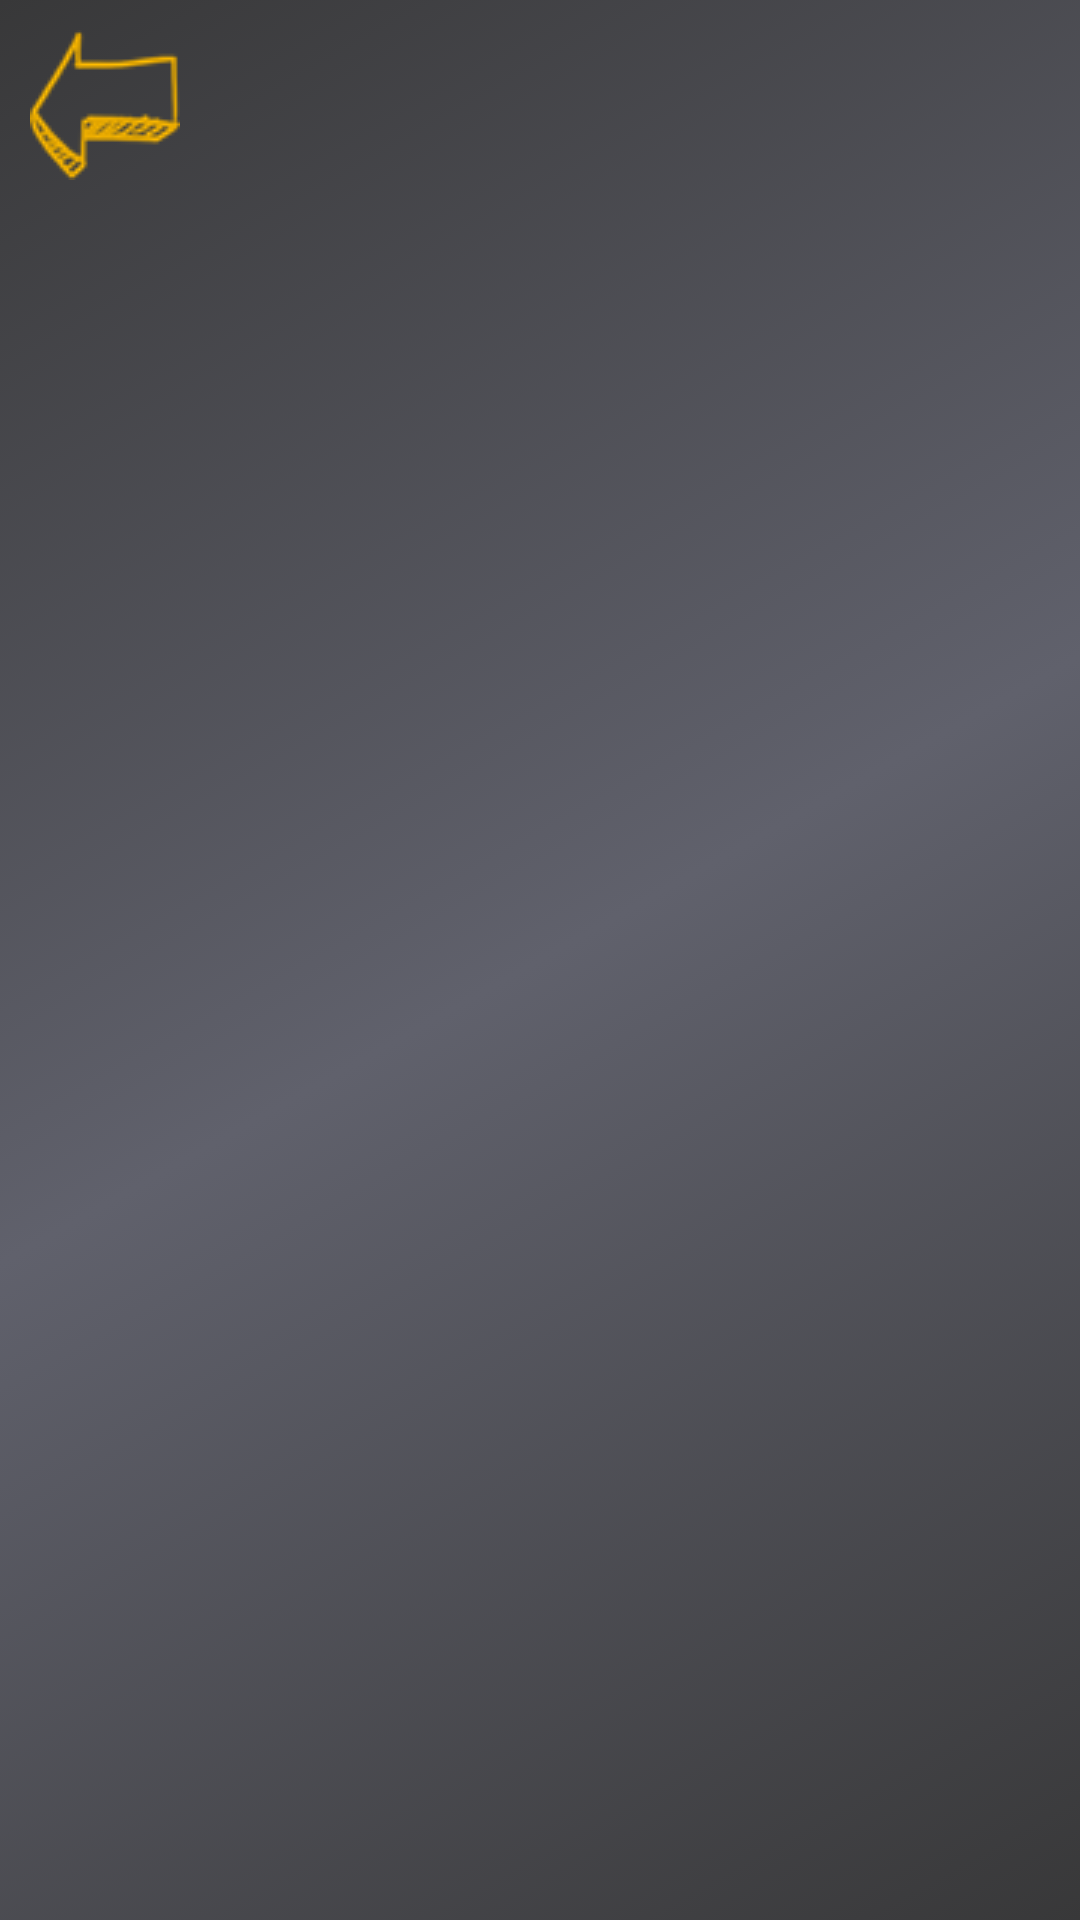

Screen size 1080×1920. Icon name, then its box in pixels as box=[x1, y1, x2, y2]:
back: box=[30, 32, 180, 180]
